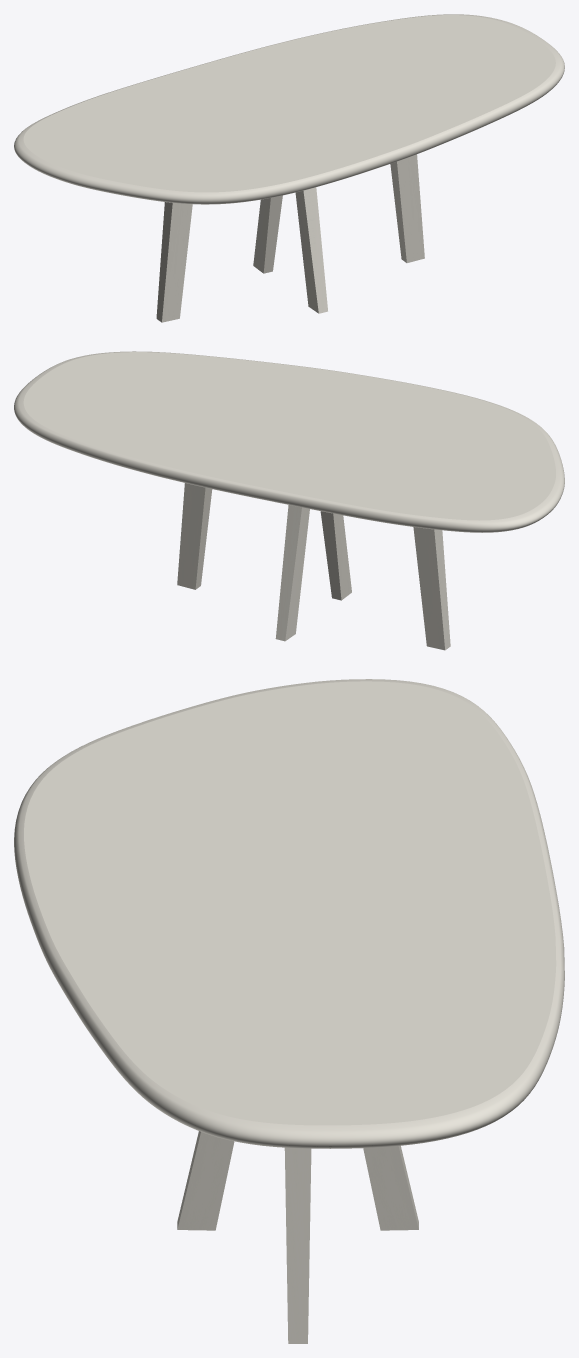
The model's file is pale_leaf2_round_searwalnut.glb.
The picture shows the model from 3 angles, top to bottom: view 1: azimuth 30°, elevation 25°; view 2: azimuth 150°, elevation 25°; view 3: azimuth 270°, elevation 25°; orthographic projection. The views are drawn at different scales.
Visible parts, largest first — view 1: round_leaf2, searwalnut; view 2: round_leaf2, searwalnut; view 3: round_leaf2, searwalnut.
Part boxes in pixels (left/top/right/bottom): round_leaf2: left=14, top=14, right=564, bottom=204; searwalnut: left=156, top=154, right=424, bottom=322; round_leaf2: left=14, top=351, right=564, bottom=532; searwalnut: left=177, top=483, right=450, bottom=650; round_leaf2: left=14, top=679, right=564, bottom=1148; searwalnut: left=177, top=1131, right=418, bottom=1343.
Size of the model in its own units: 7.5 by 2.52 by 3.8.
Materials: 1 (1 with a texture image).
